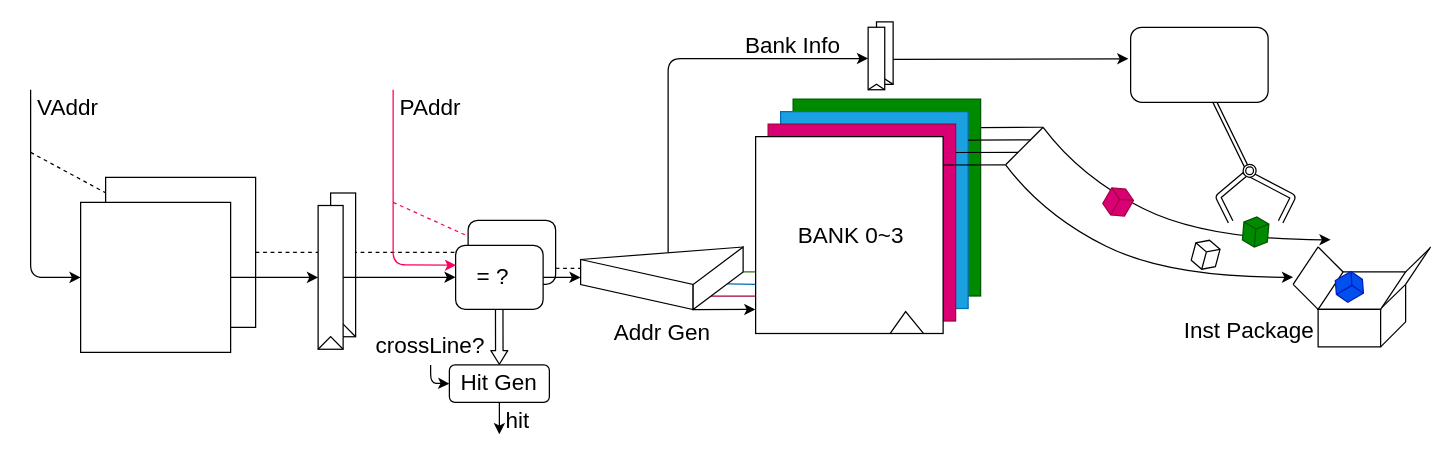
This 1454x466 diagram has some shape labels left out. Here are the shapes that lost their labels. From the top down, the centre of each, then its label:
the point at 1198,64: Reorder
the point at 155,276: TAG
